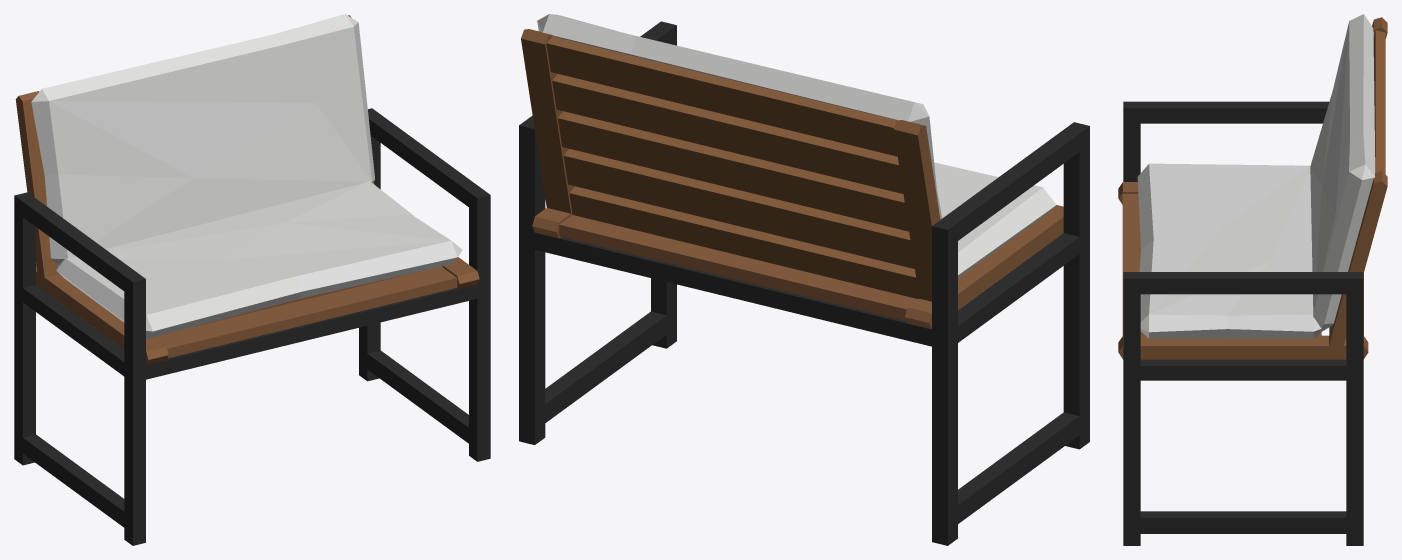
File: furniture-chair-outside-modern-wide-cusion.glb
3 renders of one model, left to right at view 1: azimuth 30°, elevation 25°; view 2: azimuth 150°, elevation 25°; view 3: azimuth 270°, elevation 25°, orthographic. The views are drawn at different scales.
Visible parts, largest first — view 1: chair-outside-modern-wide-cusion; view 2: chair-outside-modern-wide-cusion; view 3: chair-outside-modern-wide-cusion.
Part boxes in pixels (x1=…): chair-outside-modern-wide-cusion: x1=14, y1=14, x2=490, y2=545; chair-outside-modern-wide-cusion: x1=519, y1=14, x2=1089, y2=545; chair-outside-modern-wide-cusion: x1=1118, y1=14, x2=1387, y2=545.
Size of the model in its own units: 1.08 by 1.05 by 0.6939.
